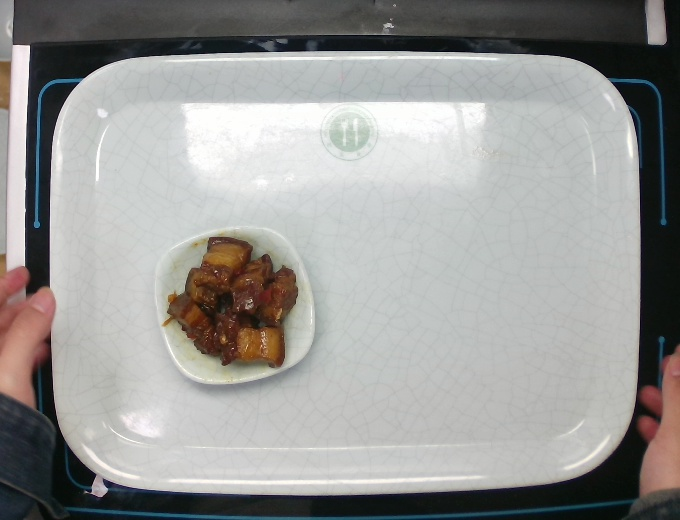JYsf-Si_Fang_Die: (149, 220, 319, 388)
